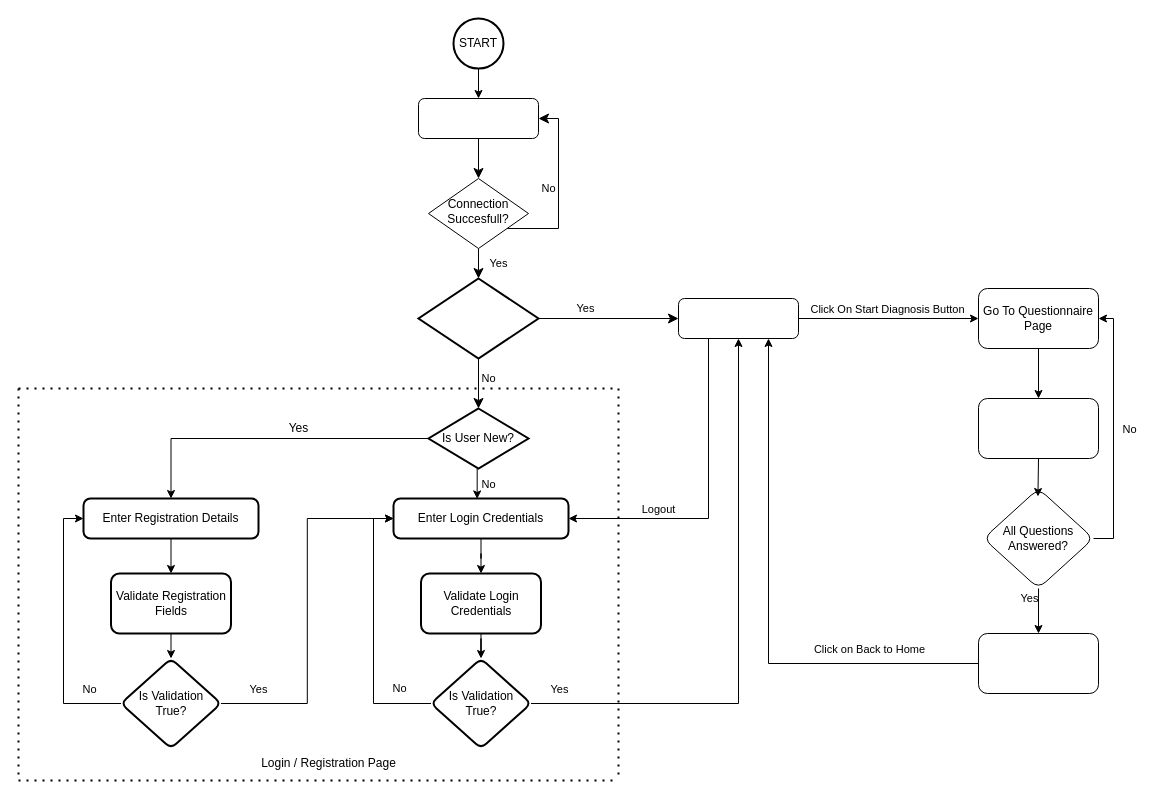
Some shapes in this 1153 by 799 pixel diagram are drawn without their labels. The shapes that lost their labels are listed below. From the top down, each one's centre as x and y in pixels, then its label:
At pixel 478 118: "Connect with Database Server".
At pixel 478 318: "Is user Logged in?".
At pixel 738 318: "Go To Home Page".
At pixel 1038 428: "Answer the questions".
At pixel 1038 663: "Go To Results Page and Observe the Diagnosis".
